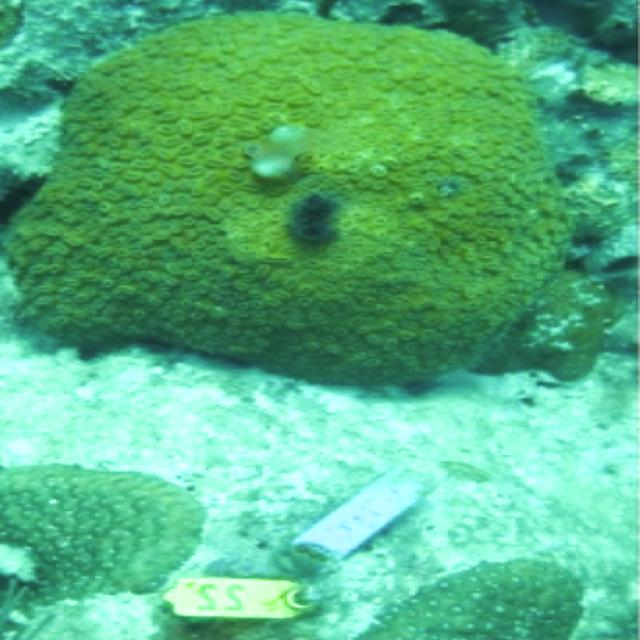Coral: (1, 12, 615, 386), (0, 463, 206, 609), (358, 559, 586, 640)
